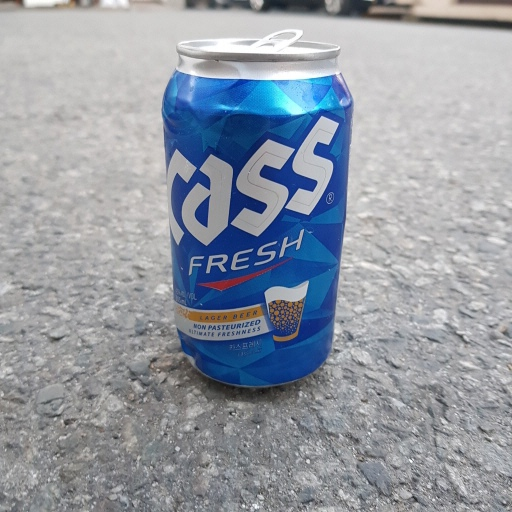Metal_0: (159, 29, 354, 394)
